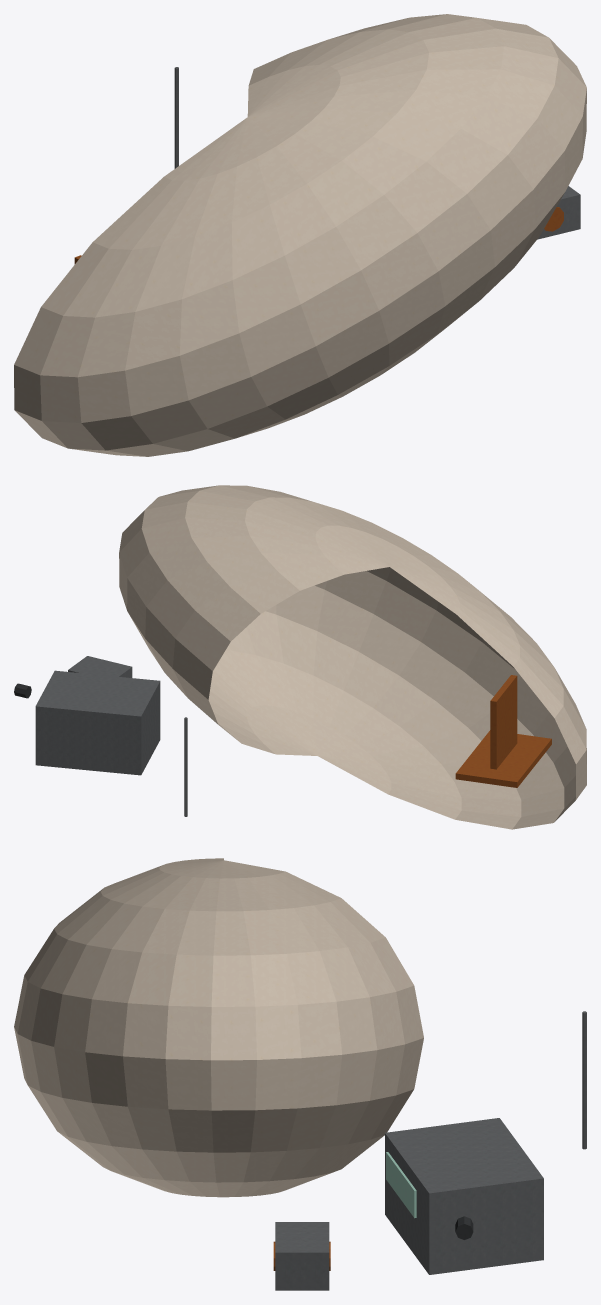
The model's file is skyroute_wreck_01.glb.
The picture shows the model from 3 angles, top to bottom: view 1: azimuth 30°, elevation 25°; view 2: azimuth 150°, elevation 25°; view 3: azimuth 270°, elevation 25°; orthographic projection. The views are drawn at different scales.
Parts seen in each view (by area): view 1: skyroute_wreck_01; view 2: skyroute_wreck_01; view 3: skyroute_wreck_01.
Part boxes in pixels (box(x1,y1,x2,y2)): skyroute_wreck_01: box(14, 14, 586, 456); skyroute_wreck_01: box(14, 485, 586, 829); skyroute_wreck_01: box(14, 858, 586, 1290).
Bounding box in the file's own units: 25.15 × 13.59 × 19.08.
5 materials, 5 textured.
